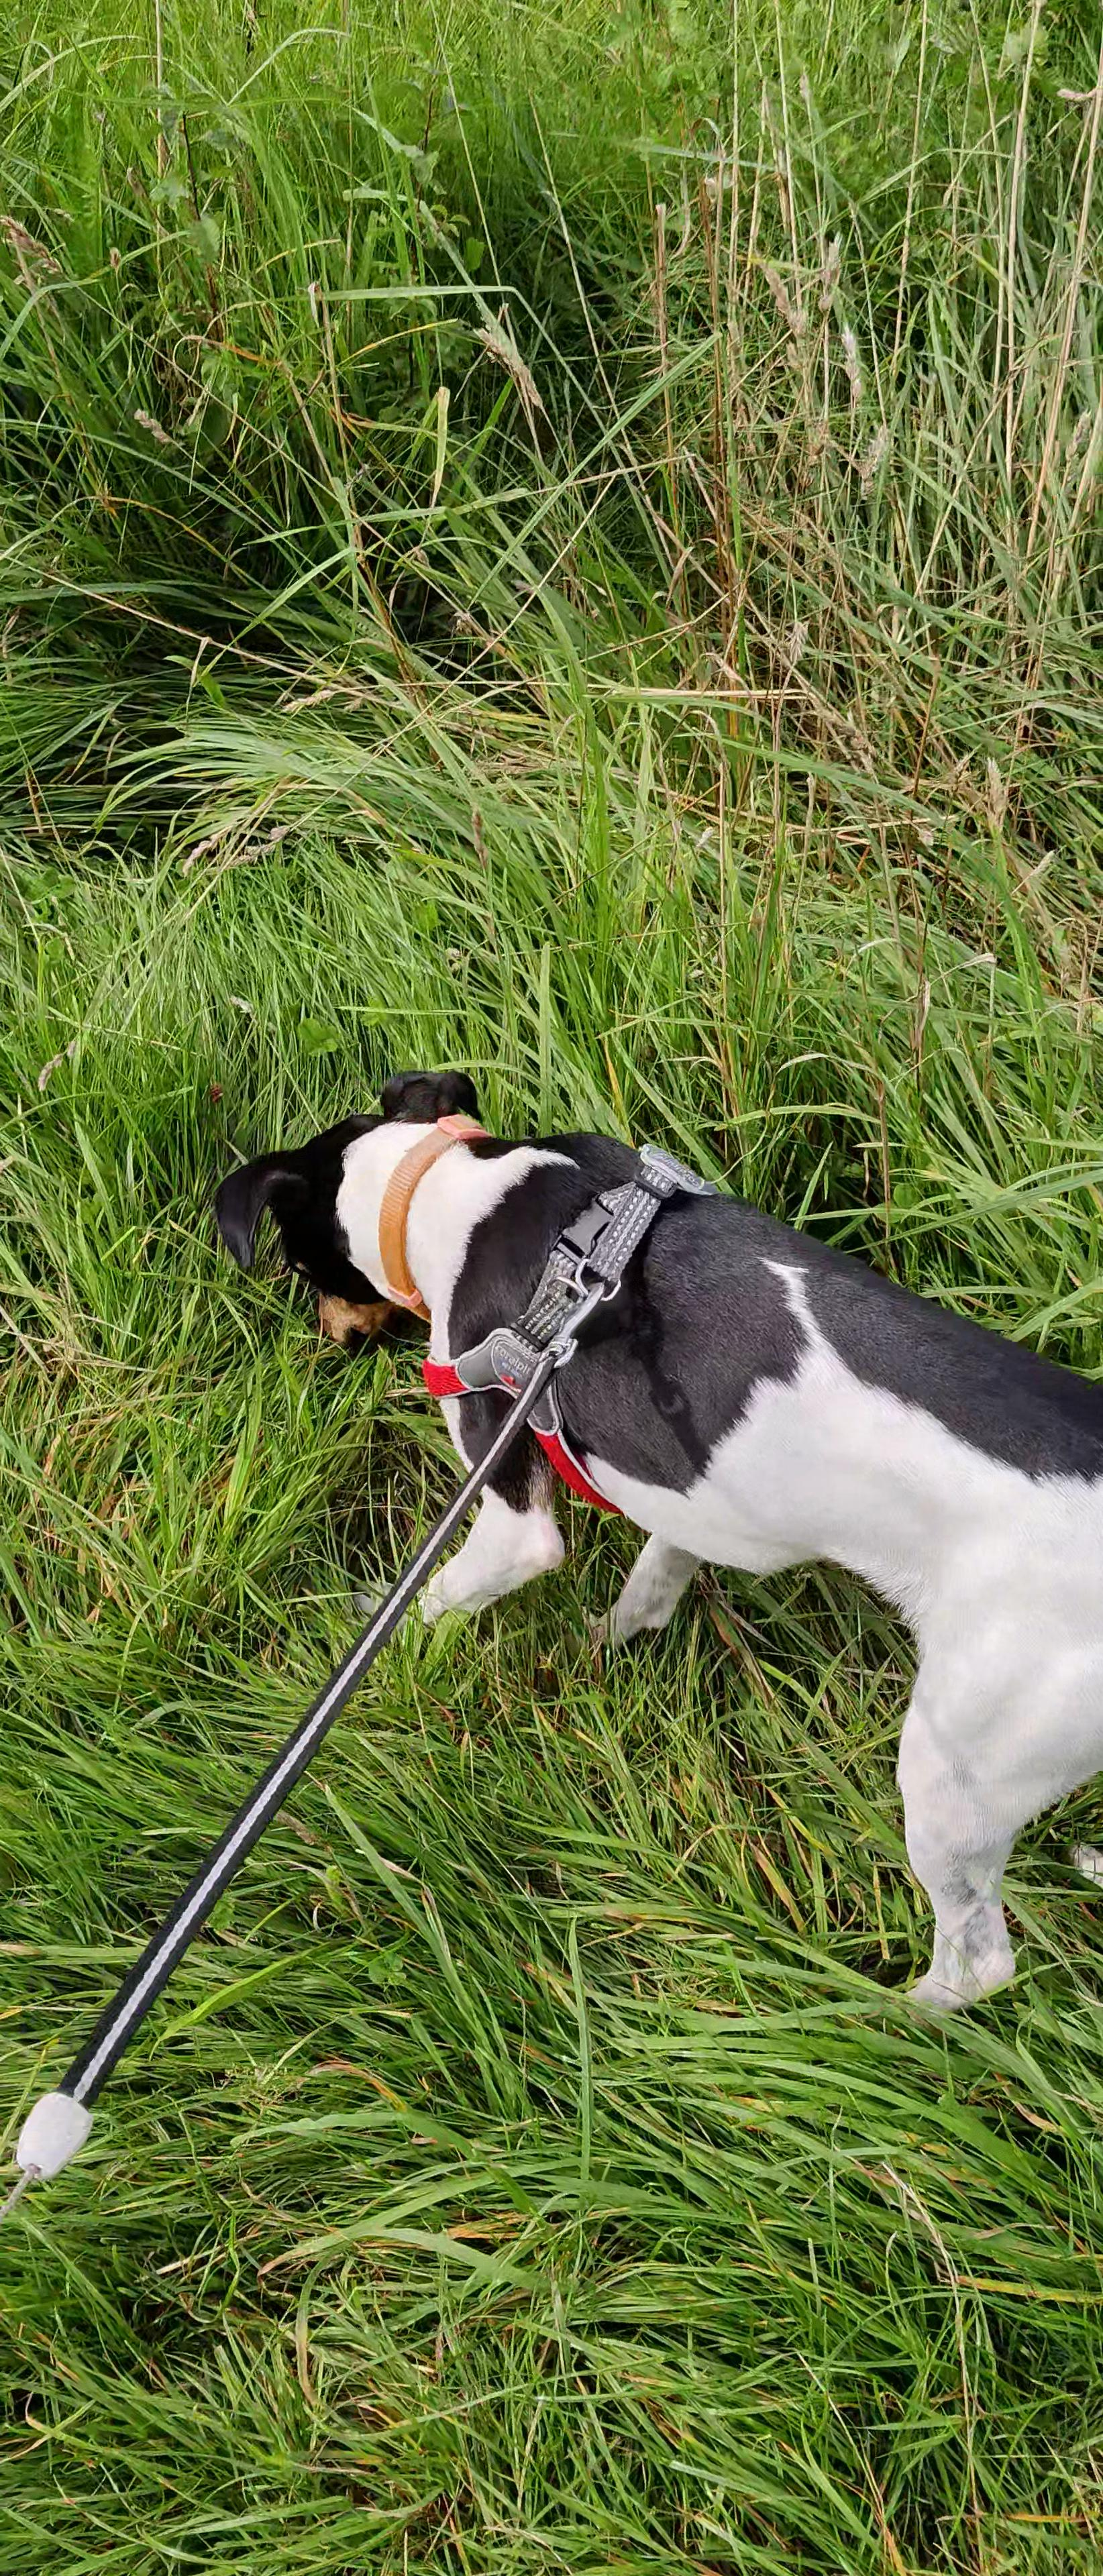Dog: (186, 1051, 1103, 2029)
